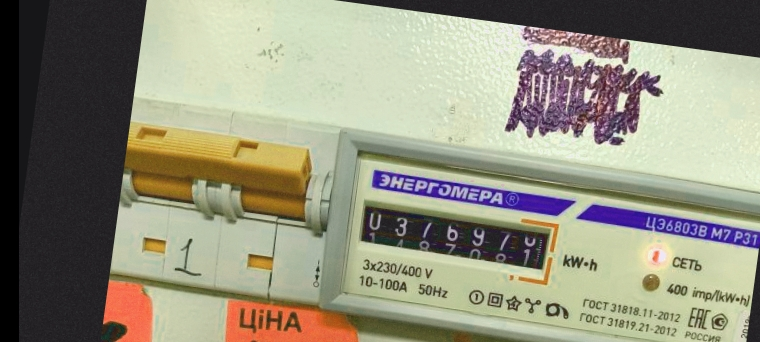0: (366, 207, 383, 231)
1: (519, 246, 533, 267)
3: (393, 215, 410, 237)
6: (444, 218, 462, 242)
7: (418, 215, 436, 241), (495, 228, 513, 252)
9: (470, 223, 486, 247)
screen: (347, 185, 565, 289)
